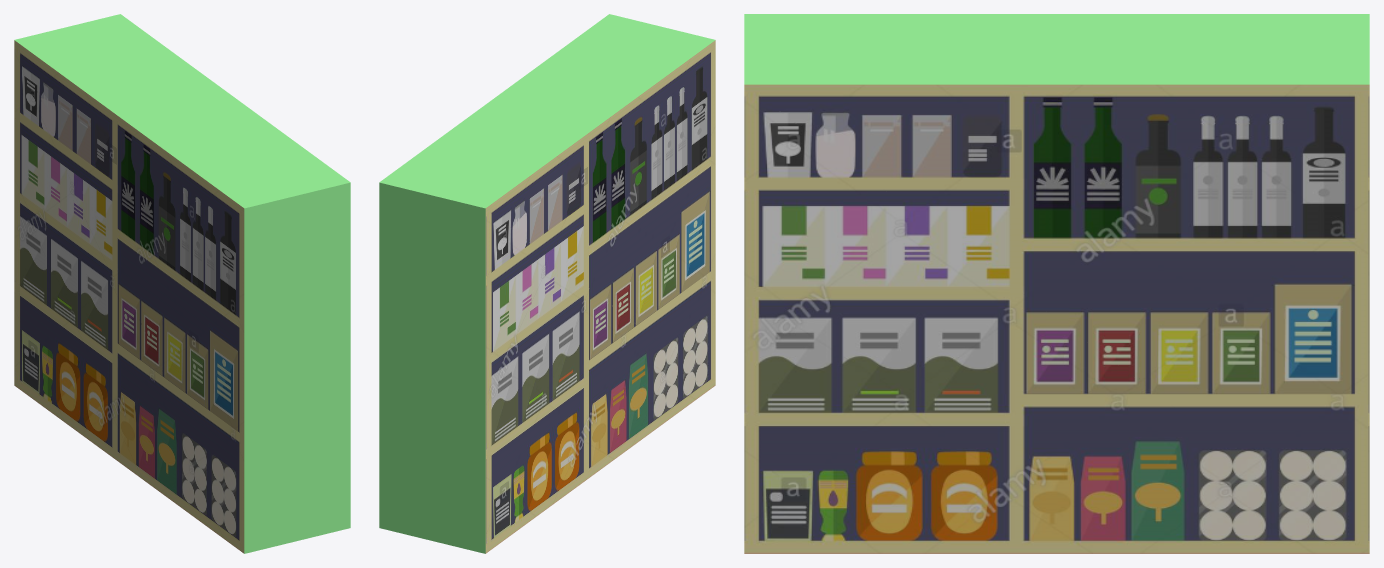
Rendered from Schelves.glb.
3 renders of one model, left to right at view 1: azimuth 30°, elevation 25°; view 2: azimuth 150°, elevation 25°; view 3: azimuth 270°, elevation 25°, orthographic. The views are drawn at different scales.
Visible parts, largest first — view 1: root; view 2: root; view 3: root.
Boxes of the visible parts, x1,y1,x2,y2 form: root: (14, 14, 350, 553); root: (379, 14, 715, 553); root: (744, 14, 1369, 553).
Size of the model in its own units: 1.07 by 3.32 by 4.01.
2 materials, 1 textured.
